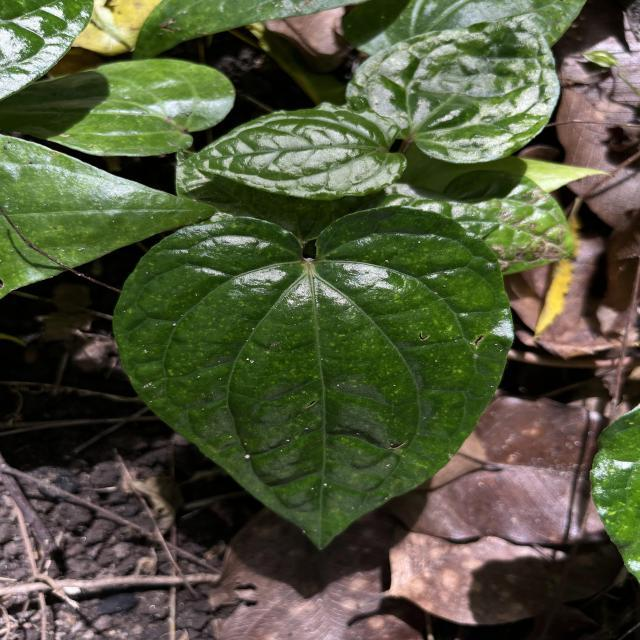Piper betle: (107, 200, 520, 557)
